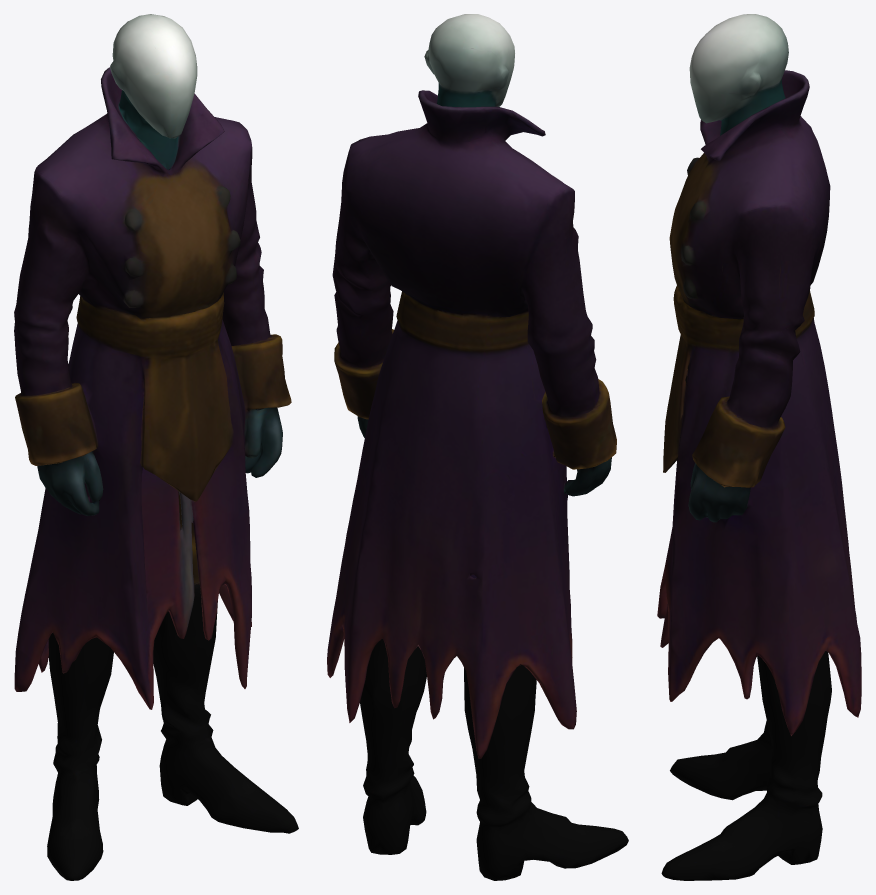
Rendered from shade.glb.
The picture shows the model from 3 angles, left to right: view 1: azimuth 30°, elevation 25°; view 2: azimuth 150°, elevation 25°; view 3: azimuth 270°, elevation 25°; orthographic projection. The views are drawn at different scales.
Visible parts, largest first — view 1: world; view 2: world; view 3: world.
Part boxes in pixels (box(x1,y1,x2,y2)): world: box(14, 14, 298, 880); world: box(327, 14, 628, 880); world: box(657, 14, 861, 880).
Bounding box in the file's own units: 0.3384 × 1 × 0.2289.
Materials: 1 (1 with a texture image).
